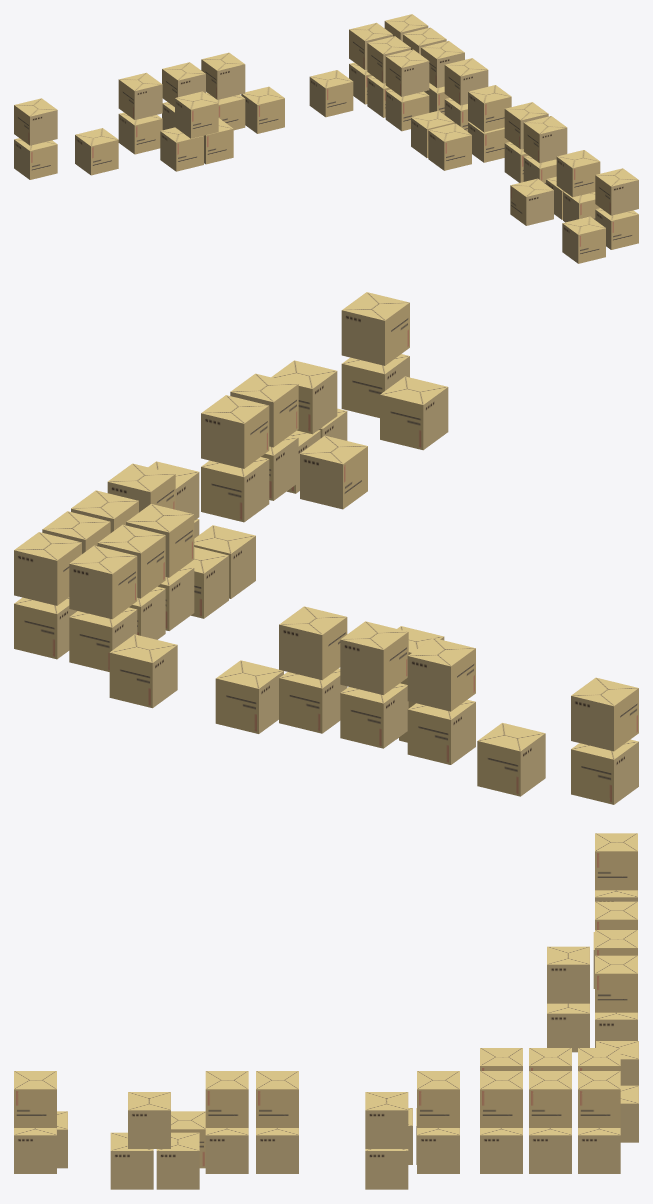
The model's file is cangku_01.FBX.
3 views of the same model, one above another, from view 1: azimuth 30°, elevation 25°; view 2: azimuth 150°, elevation 25°; view 3: azimuth 270°, elevation 25° (orthographic). The views are drawn at different scales.
Parts seen in each view (by area): view 1: cangku_01; view 2: cangku_01; view 3: cangku_01.
Part boxes in pixels (x1=…): cangku_01: x1=14, y1=14, x2=638, y2=263; cangku_01: x1=14, y1=292, x2=638, y2=804; cangku_01: x1=14, y1=833, x2=638, y2=1189.
Bounding box in the file's own units: 33.03 × 5.84 × 33.73.
Materials: 1 (1 with a texture image).
